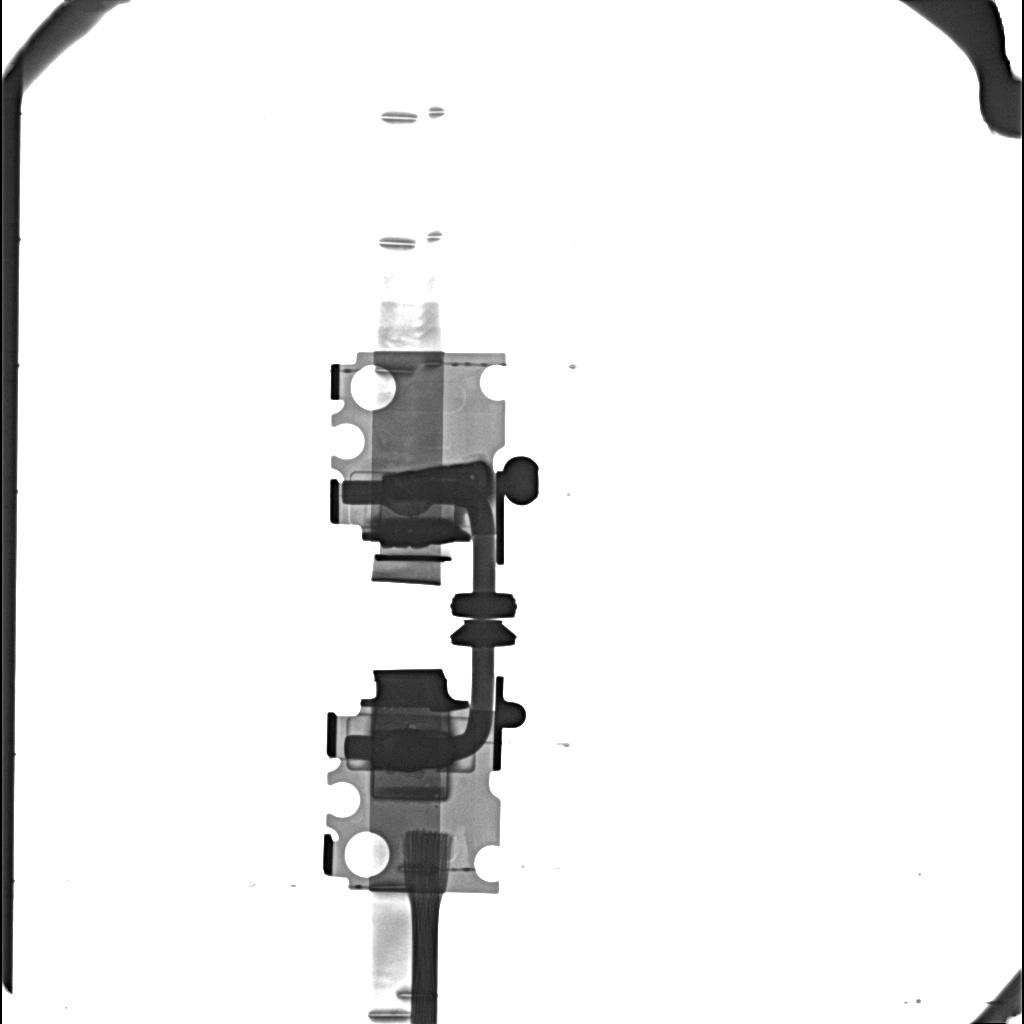气孔: (371, 770, 449, 801)
水纹: (382, 464, 492, 505), (372, 730, 455, 769)
